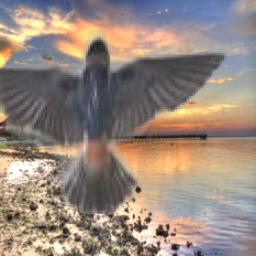Swallow: (0, 31, 236, 215)
